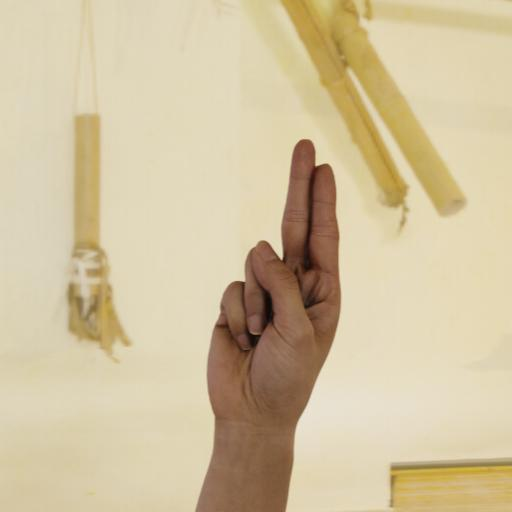U: (199, 134, 353, 438)
